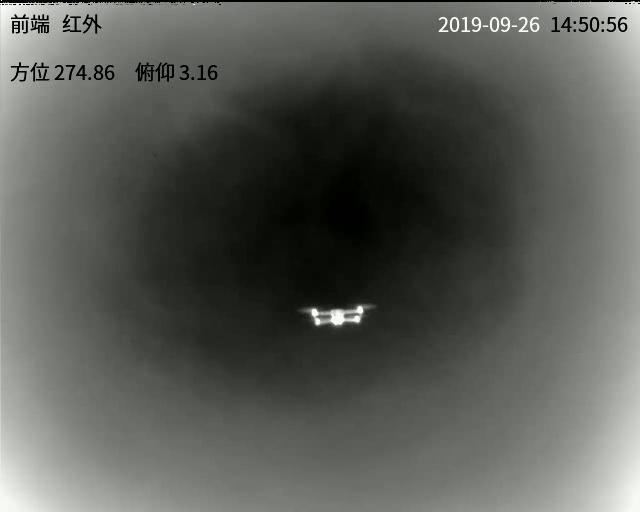DRONE: (304, 304, 371, 326)
